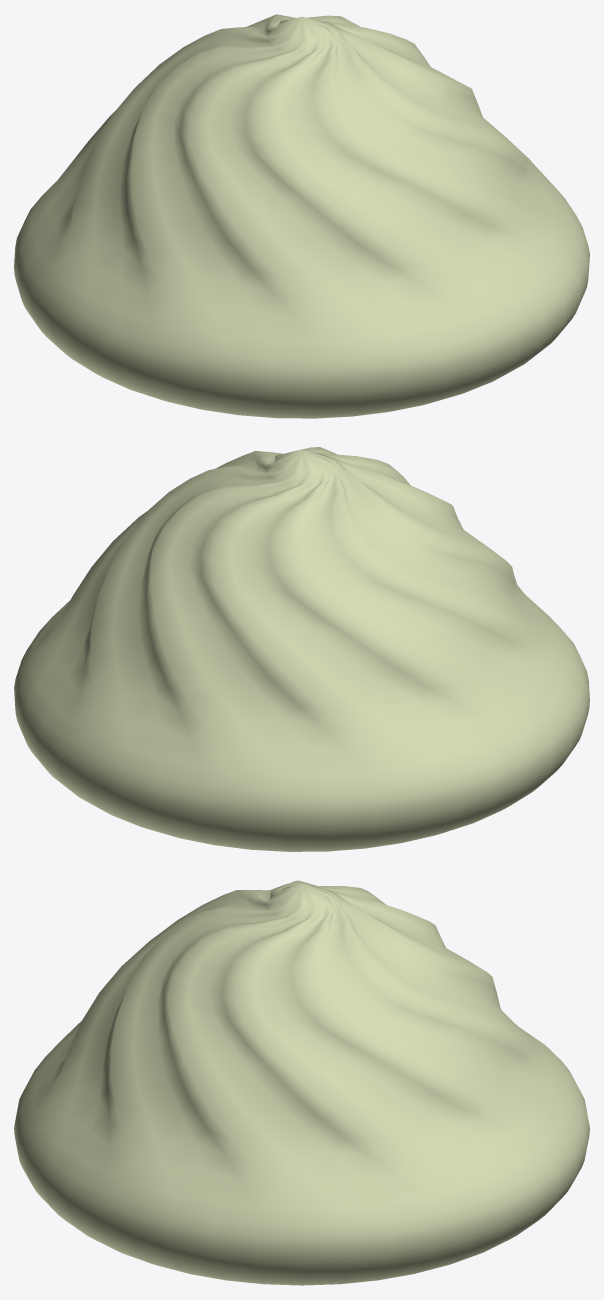
The model's file is dumpling.fbx.
3 views of the same model, one above another, from view 1: azimuth 30°, elevation 25°; view 2: azimuth 150°, elevation 25°; view 3: azimuth 270°, elevation 25° (orthographic).
Parts seen in each view (by area): view 1: pSphere29; view 2: pSphere29; view 3: pSphere29.
Boxes of the visible parts, box(x1,y1,x2,y2) form: pSphere29: box(14, 14, 589, 418); pSphere29: box(14, 447, 589, 851); pSphere29: box(14, 880, 589, 1285).
Bounding box in the file's own units: 0.3452 × 0.2161 × 0.3452.
